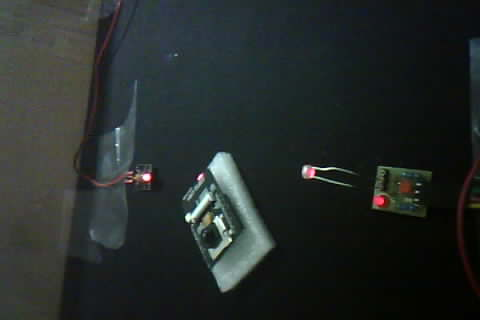esp32: (181, 151, 279, 294)
